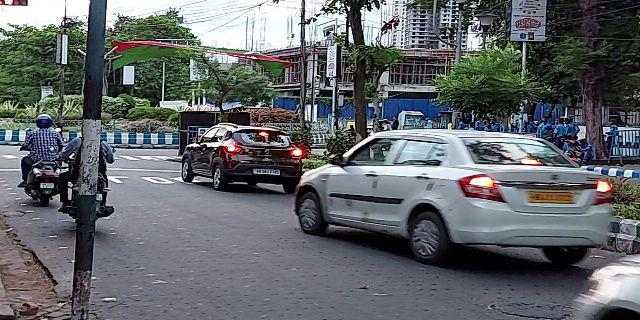Car: (293, 125, 611, 255), (181, 121, 302, 189)
Motorbike: (21, 109, 58, 210)
